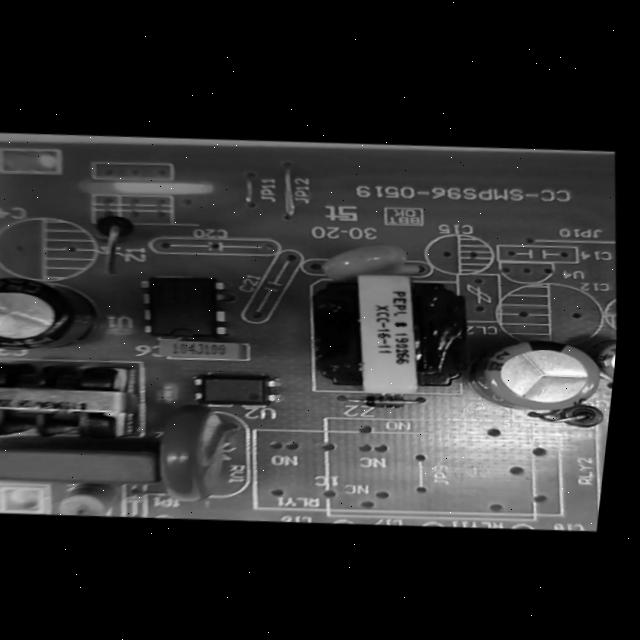Cap1: (462, 333, 611, 418)
Cap2: (593, 337, 616, 386)
Cap3: (0, 275, 109, 357)
MOSFET: (130, 271, 233, 345)
Mov: (145, 407, 249, 508)
Resistor: (52, 479, 125, 519)
Transformer: (303, 271, 482, 405), (0, 356, 140, 446)
